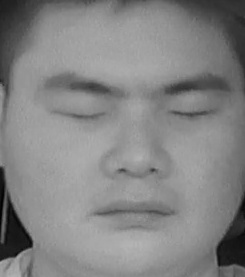blink: (53, 94, 104, 132), (170, 95, 215, 131)
mouth: (88, 187, 177, 233)
